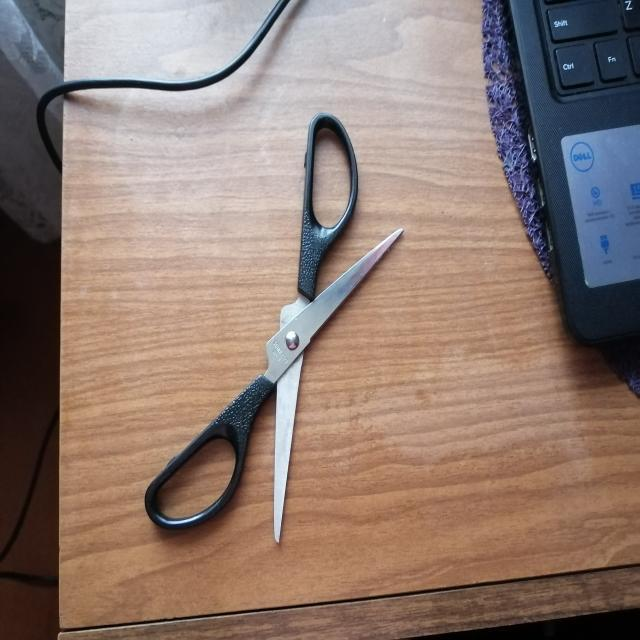scissors: (136, 106, 408, 552)
